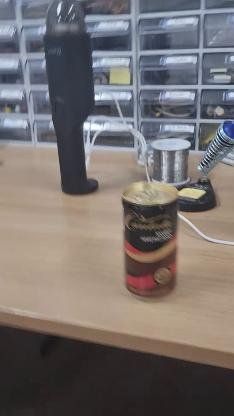Can: (122, 184, 176, 298)
